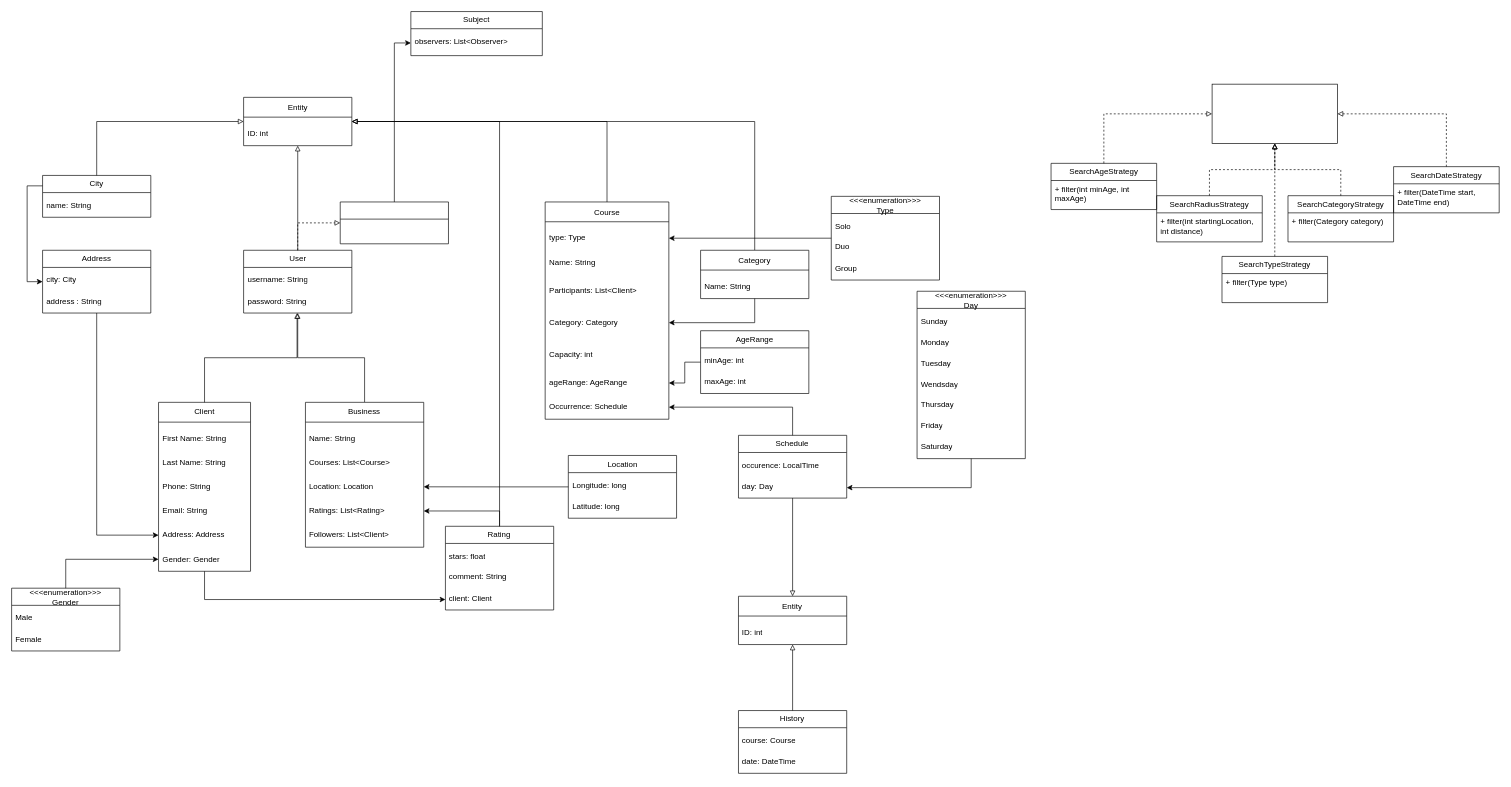
Image size: 1511x787. Some labels were removed from this diagram. The centre of each missing label's shape, as x and y in pixels:
<<Interface>> Observer: the point at 394,222
<<Interface>> SearchStrategyInterface + filter(Type1, Type2):: the point at 1274,113
